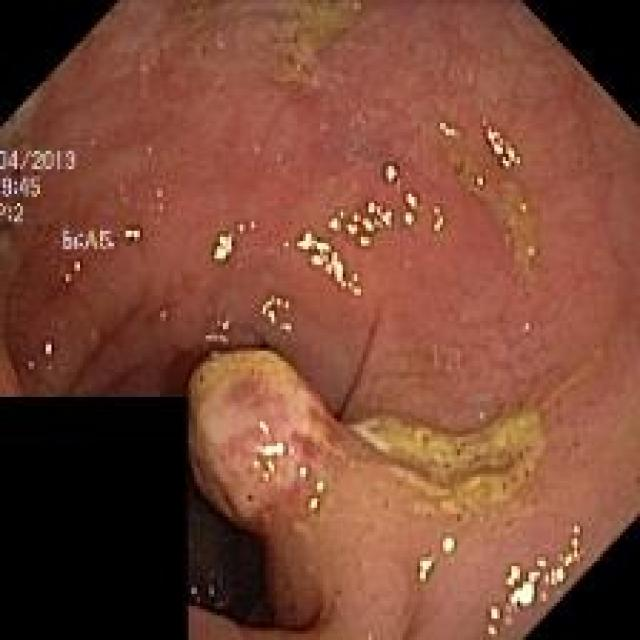Polyps: (189, 350, 546, 639)
